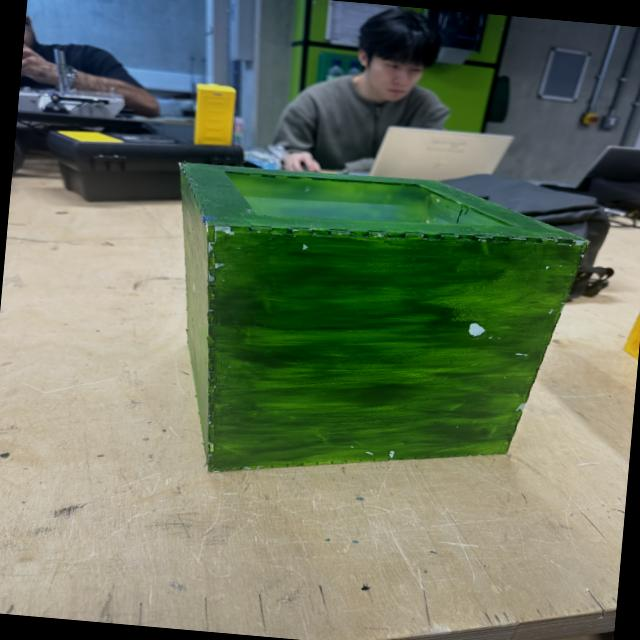green_bin: (151, 157, 594, 503)
